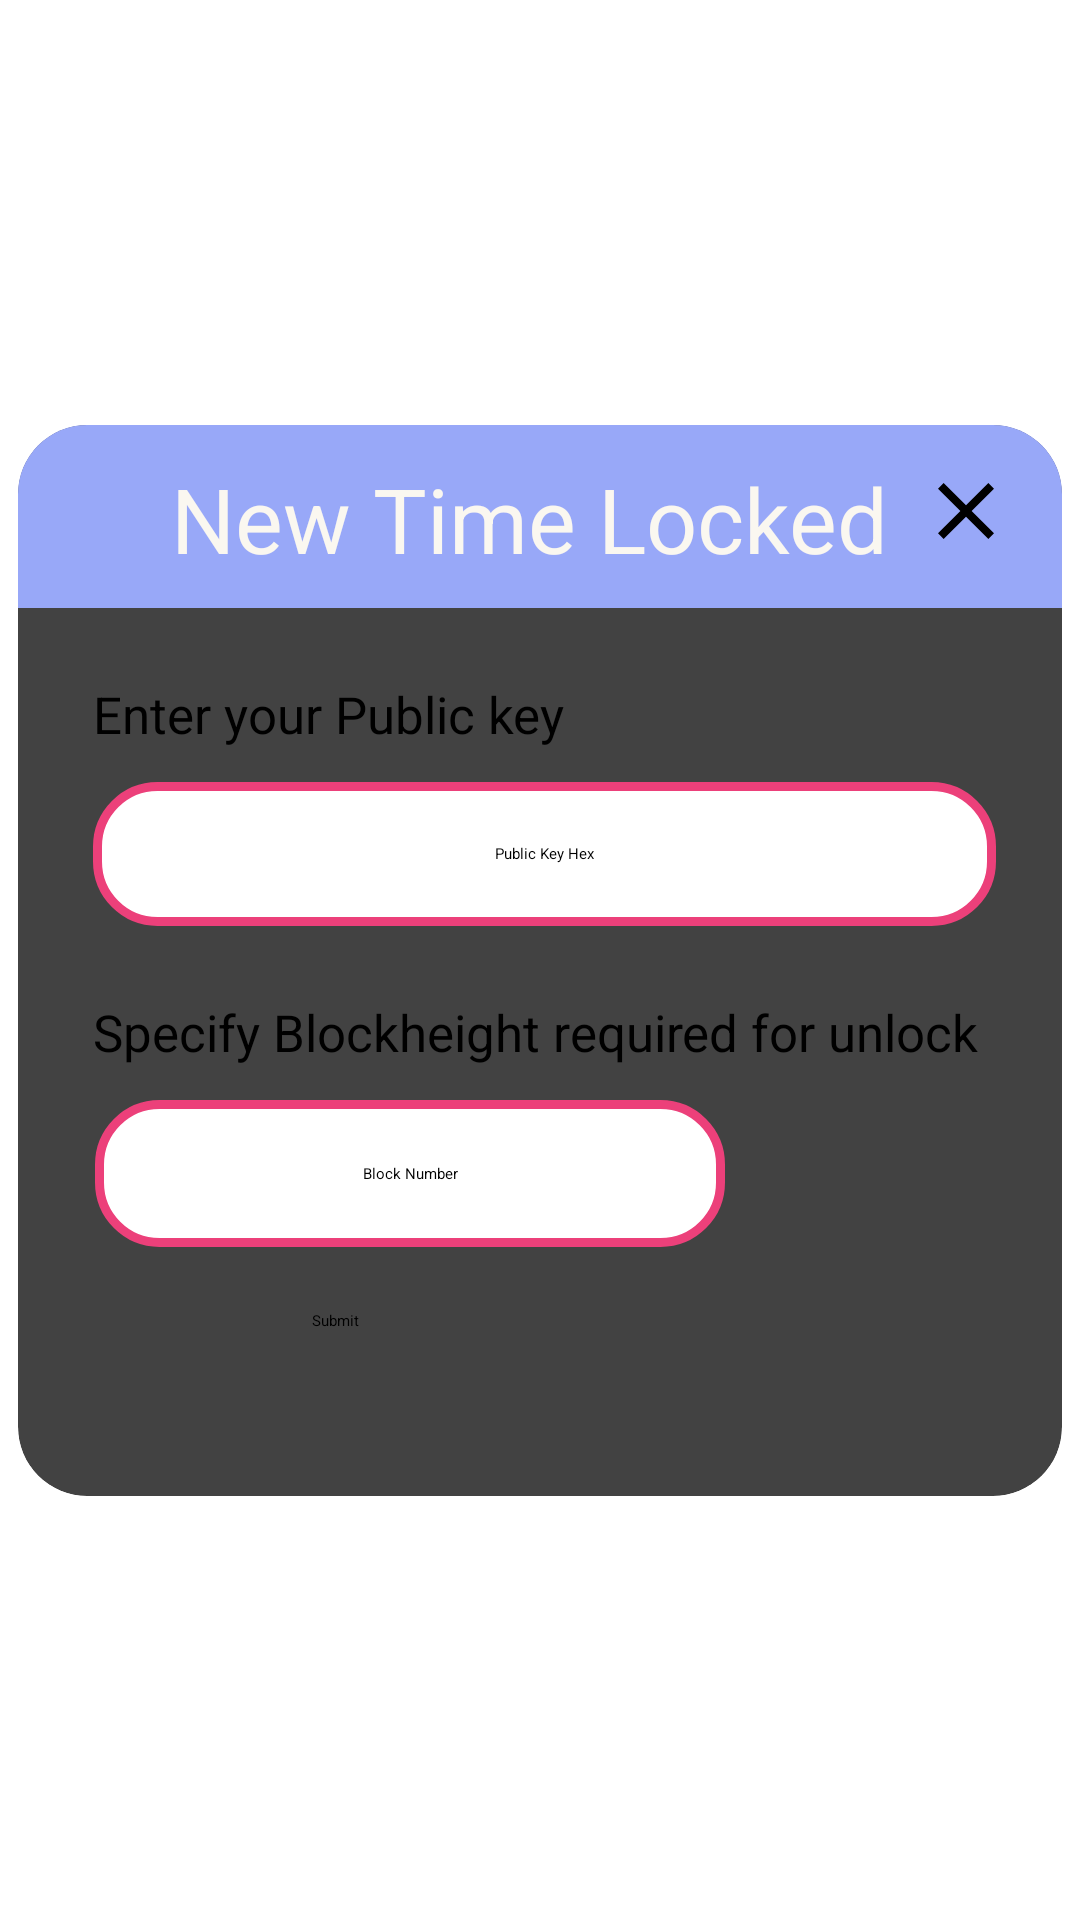

Where icons sit on this 1080*1920 app screen, as (x1, y1, x2, y2):
close: (938, 483, 994, 539)
